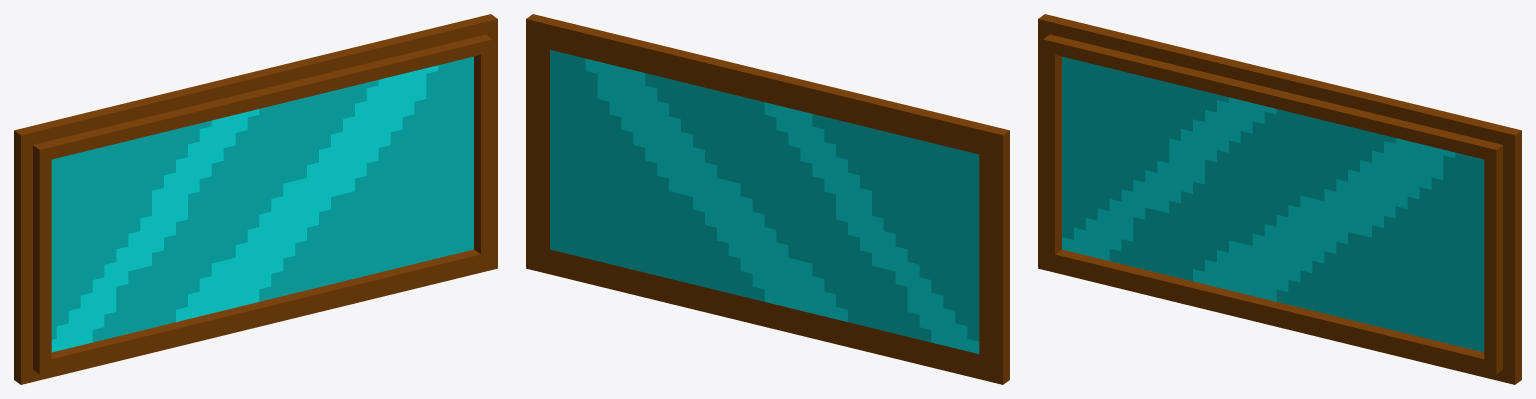
The model's file is WideMirror.obj.
The picture shows the model from 3 angles, left to right: view 1: azimuth 30°, elevation 25°; view 2: azimuth 150°, elevation 25°; view 3: azimuth 330°, elevation 25°; orthographic projection.
Bounding box in the file's own units: 4 × 2 × 0.2.
1 material, 1 textured.
